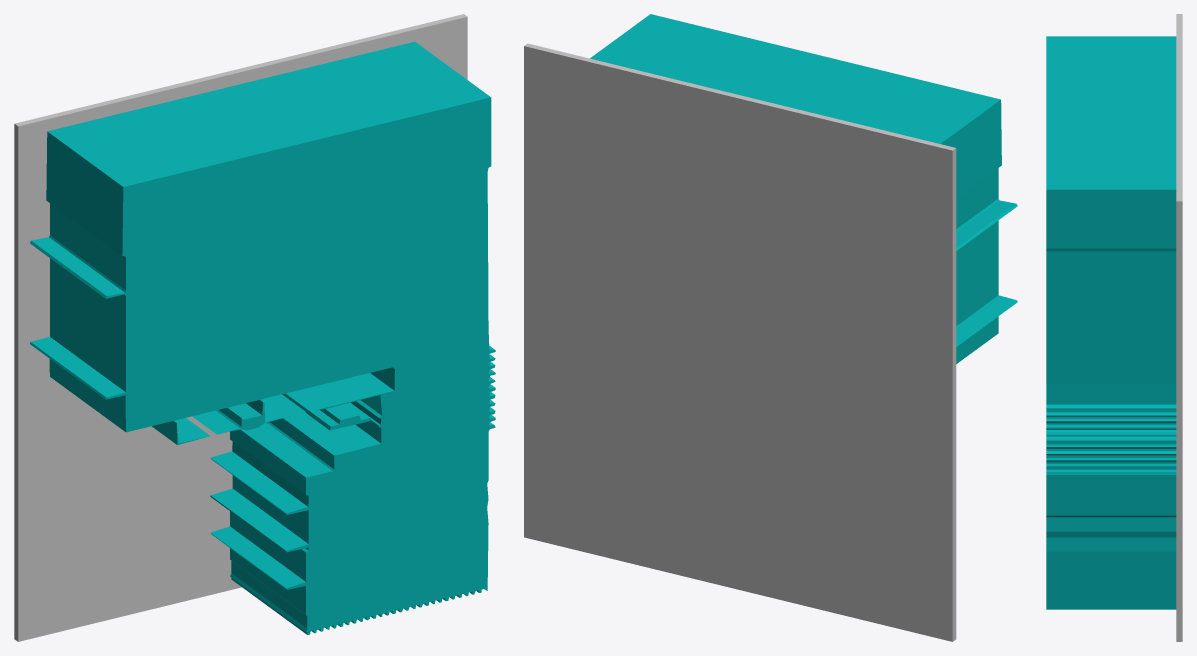
3 views of the same model, side by side, from view 1: azimuth 30°, elevation 25°; view 2: azimuth 150°, elevation 25°; view 3: azimuth 270°, elevation 25° (orthographic). The views are drawn at different scales.
Parts seen in each view (by area): view 1: world; view 2: world; view 3: world.
Boxes of the visible parts, x1,y1,x2,y2 form: world: (14,14,495,641); world: (524,14,1017,641); world: (1046,14,1182,641).
Size of the model in its own units: 10.23 by 11.21 by 3.15.
